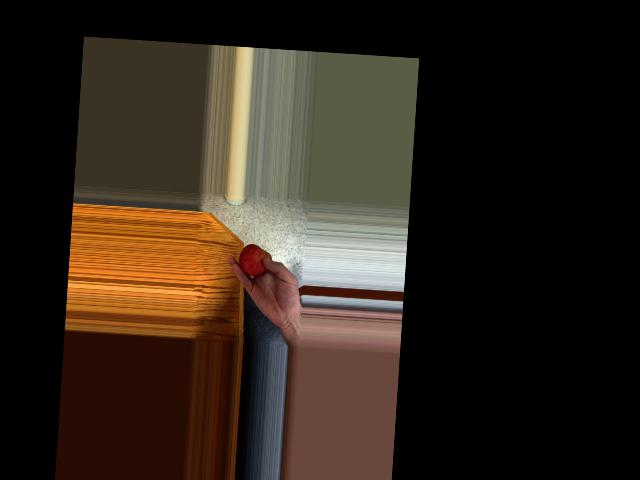apple: (237, 240, 274, 282)
